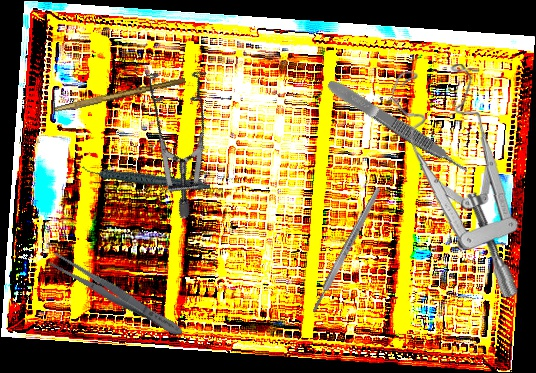Dressing Forceps: (46, 249, 187, 342)
Handpiece: (80, 138, 212, 217)
Scalpel Handle: (309, 186, 383, 314), (53, 74, 187, 117)
Speculum: (385, 61, 526, 298), (93, 47, 253, 222)
Tissue Forceps: (324, 75, 472, 180)
